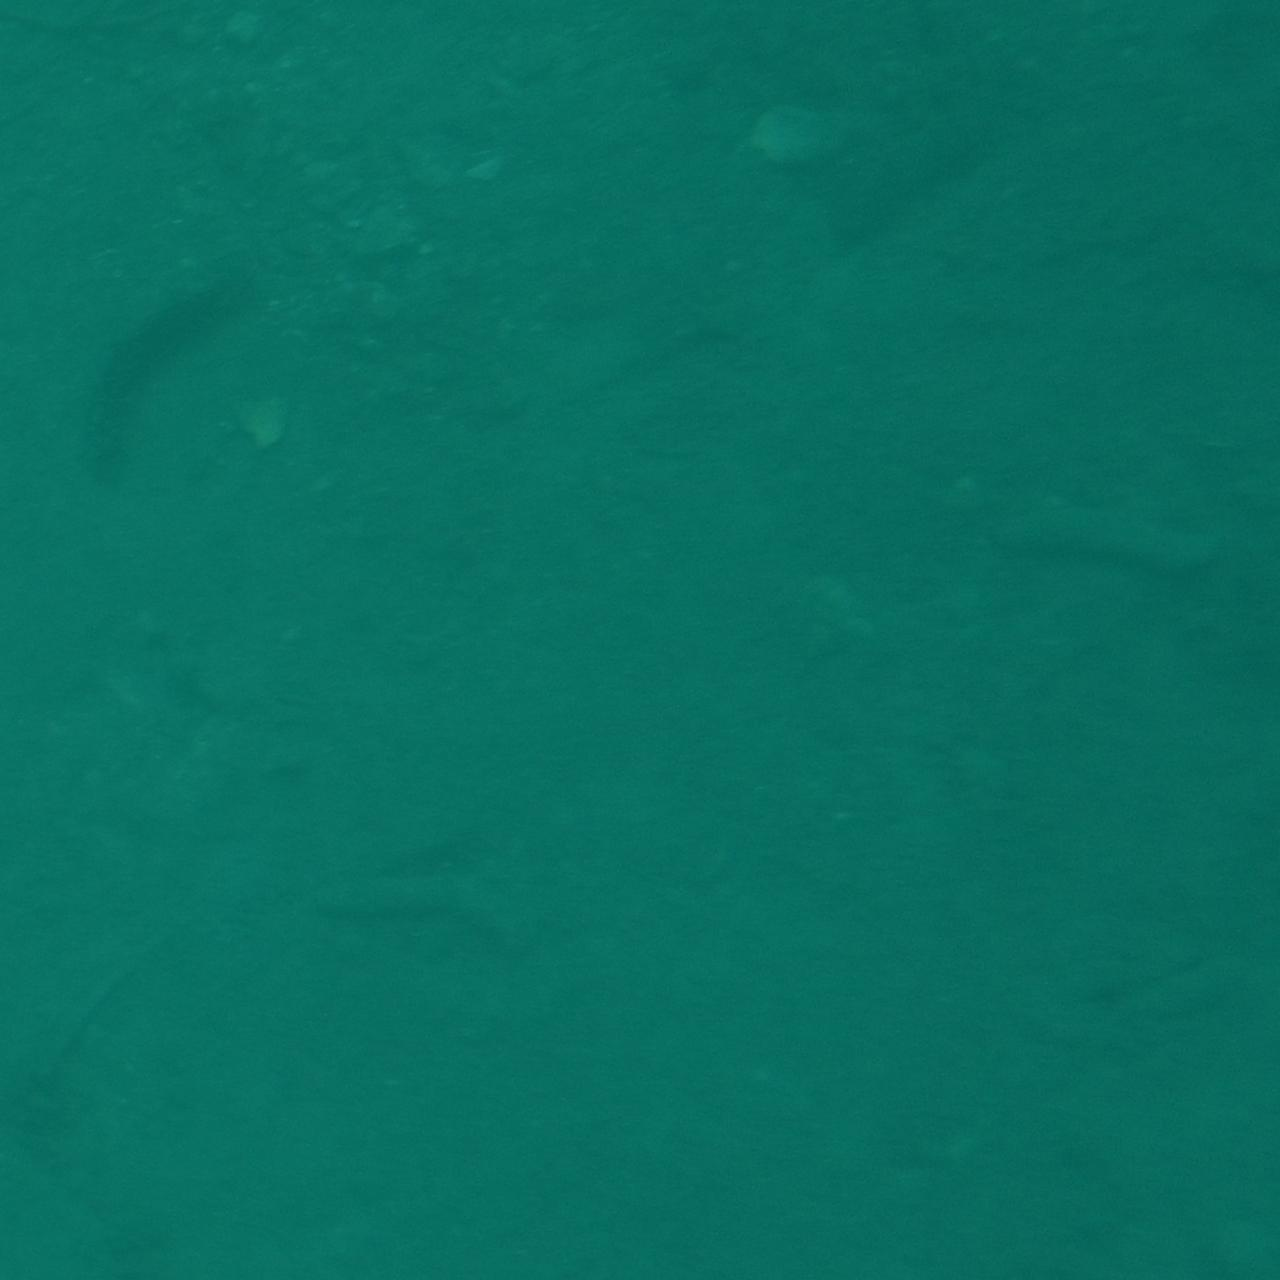Holothuria tubulosa: (33, 232, 268, 508), (987, 464, 1271, 602), (292, 855, 551, 967)
